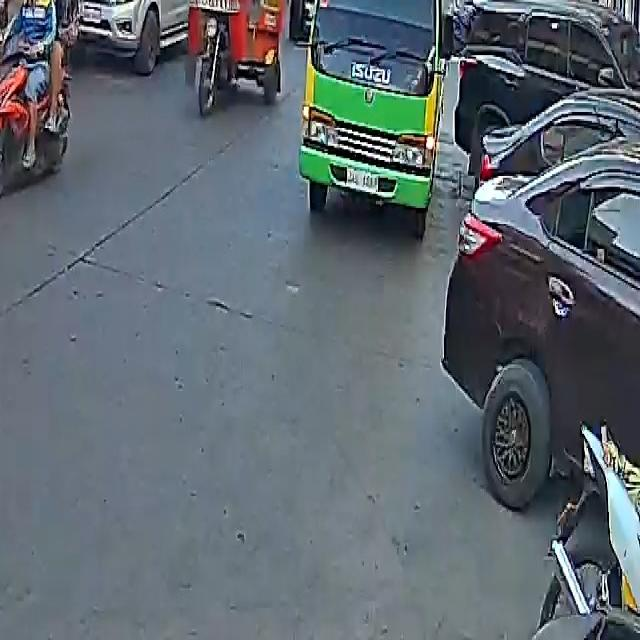car: (442, 40, 640, 535), (454, 0, 639, 176), (67, 0, 196, 71)
